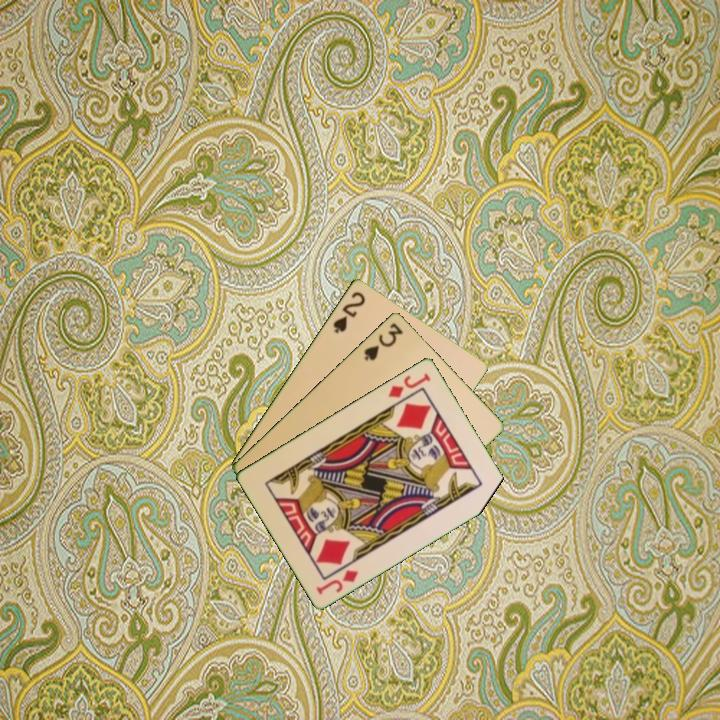2s: (329, 287, 368, 336)
3s: (360, 319, 406, 364)
Jd: (384, 369, 434, 400), (312, 566, 361, 597)
